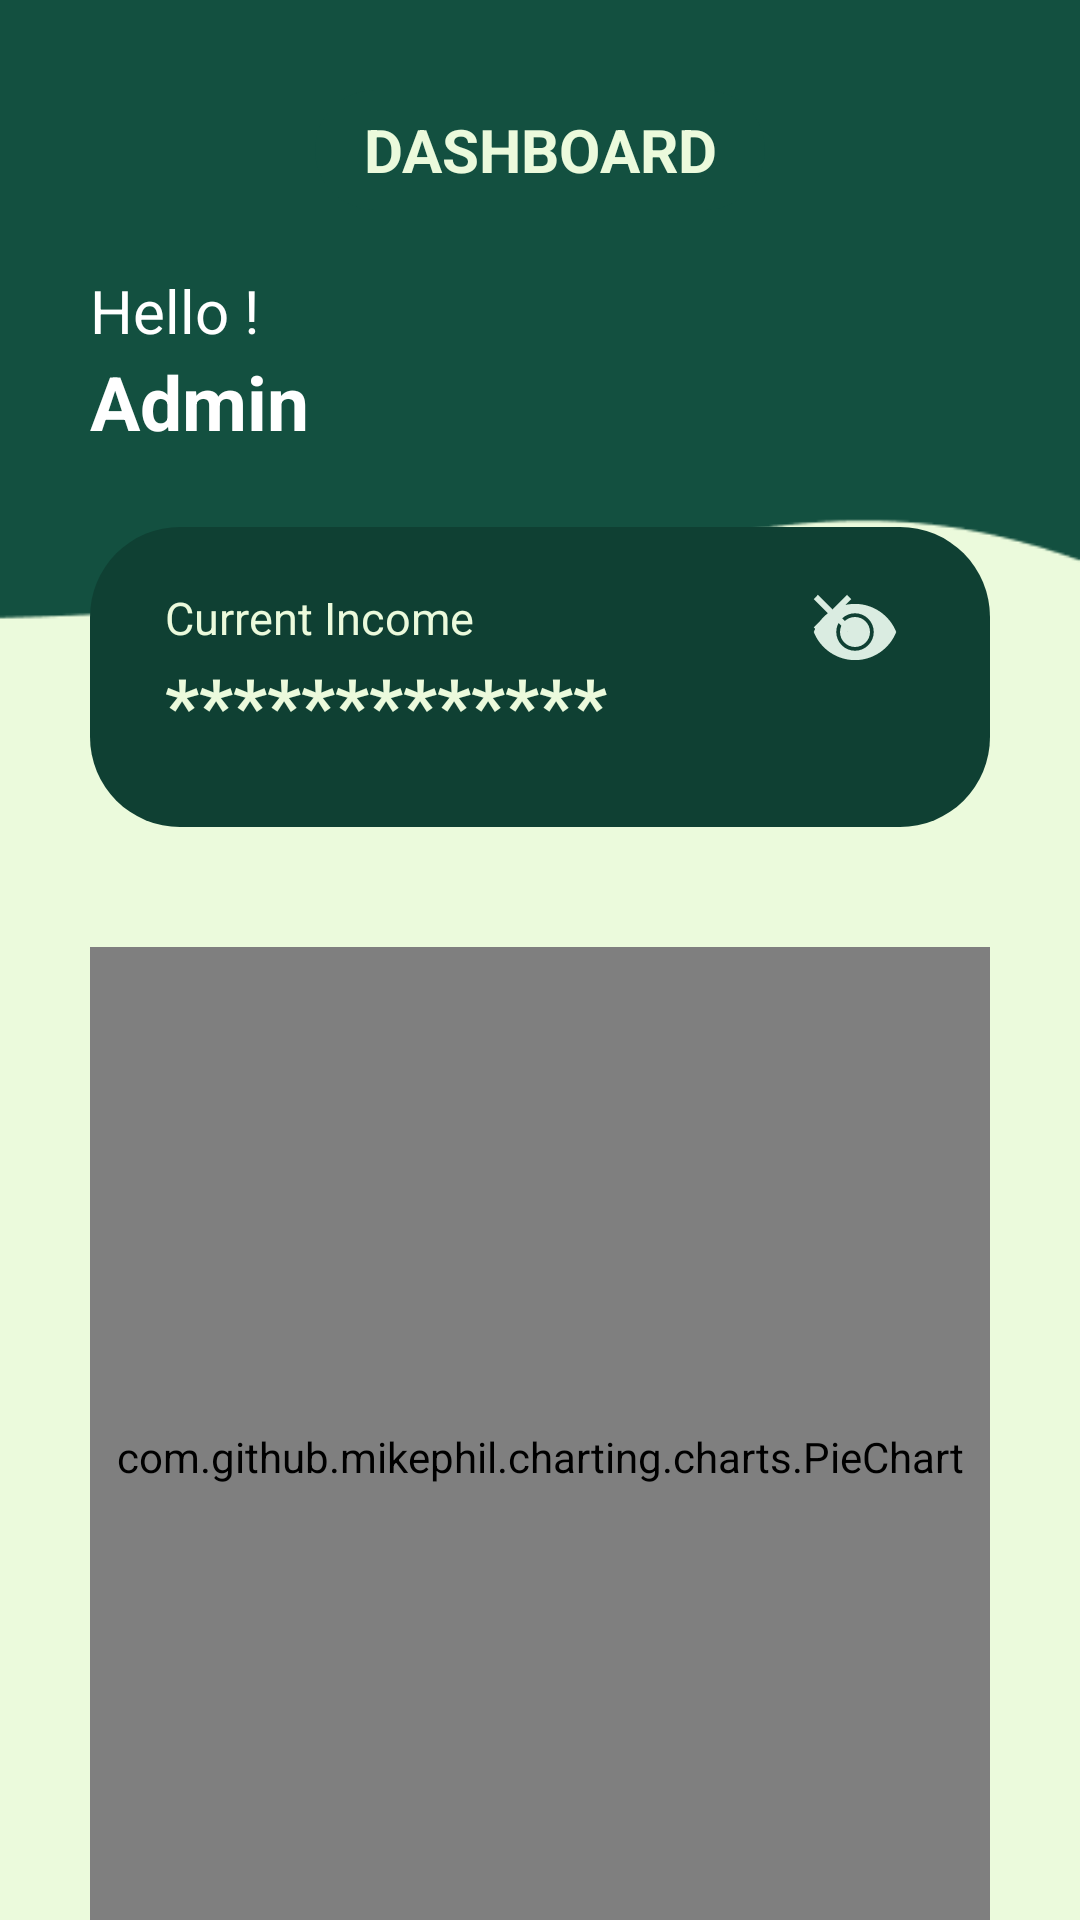

Locate icon controls on the screen. Image size 1080×1920, boxes as (x1, y1, x2, y2).
eye closed: (814, 595, 896, 660)
